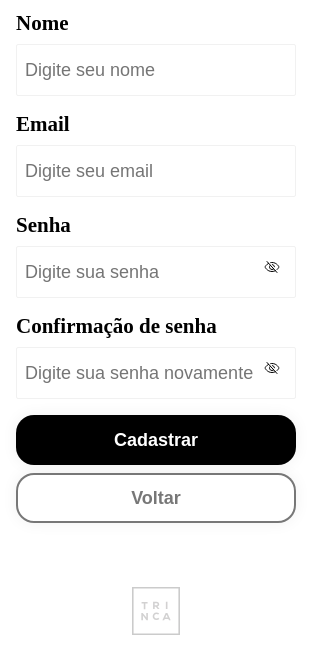
it: SignIn › should show error message when email is invalid
Type "email@@email.com" into the field with placeholder "Digite seu email".
click(156, 171); type("email@@email.com")  # box x1=16 y1=145 x2=296 y2=197
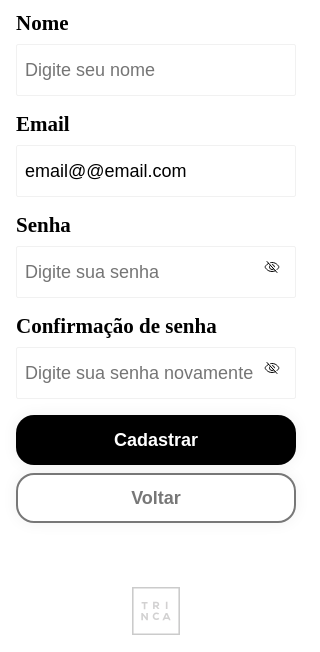
Click the button "Cadastrar".
click(156, 440)  # box x1=16 y1=415 x2=296 y2=465
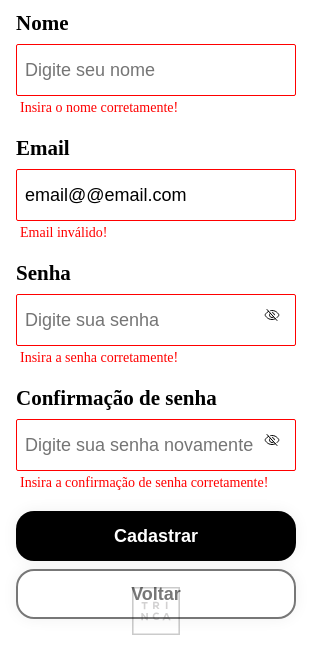
Check: the text "Email inválido!" is shown, box x1=20 y1=225 x2=108 y2=240
